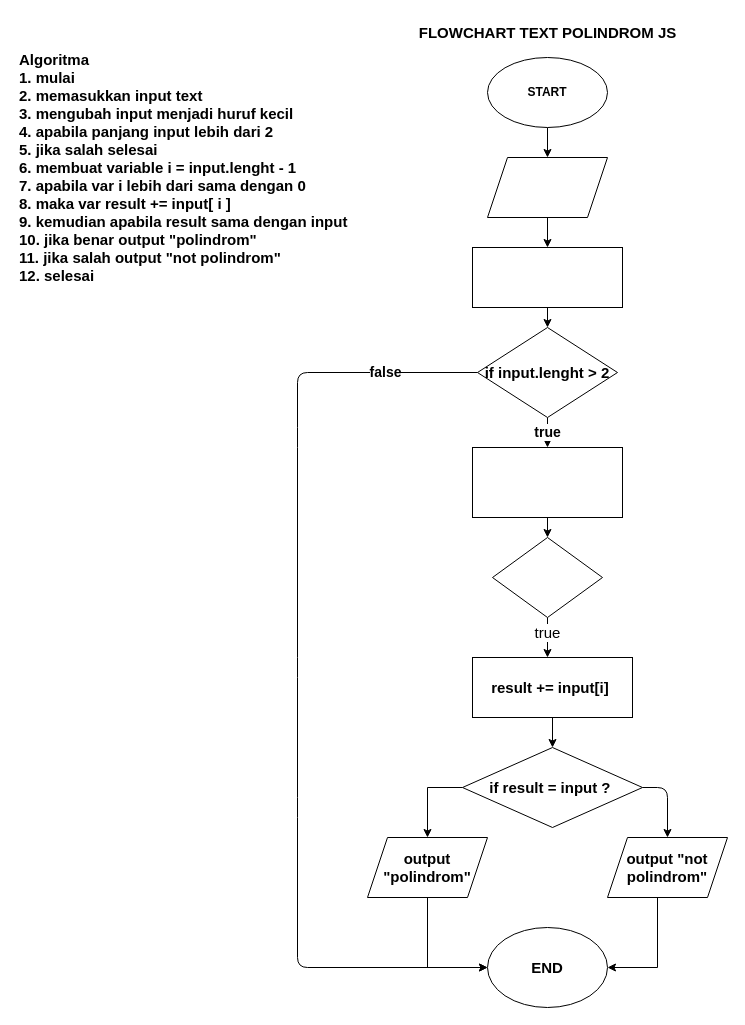
This 745x1025 diagram has some shape labels left out. Here are the shapes that lost their labels. From the top down, the centre of each, then its label:
At [547,187]: "INPUT TEXT".
At [547,277]: "covert to lower case".
At [547,482]: "i = input.lenght - 1".
At [547,577]: "if i >= 0 ? i--".
